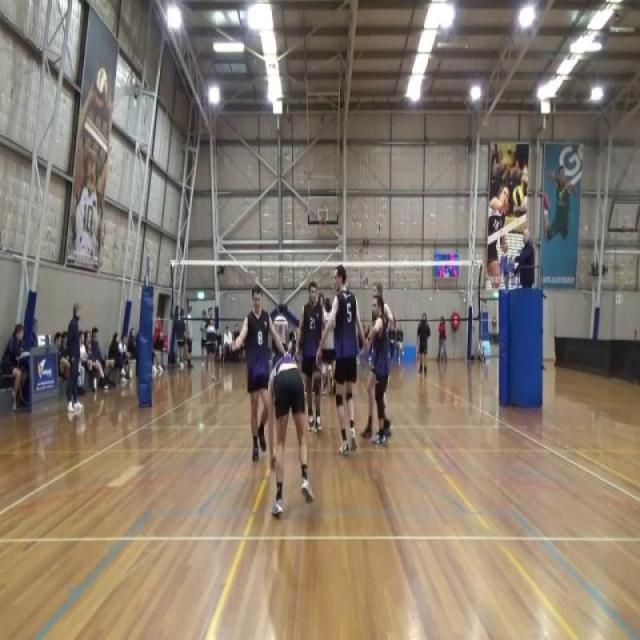volleyball: (94, 67, 107, 109), (512, 185, 524, 206)
